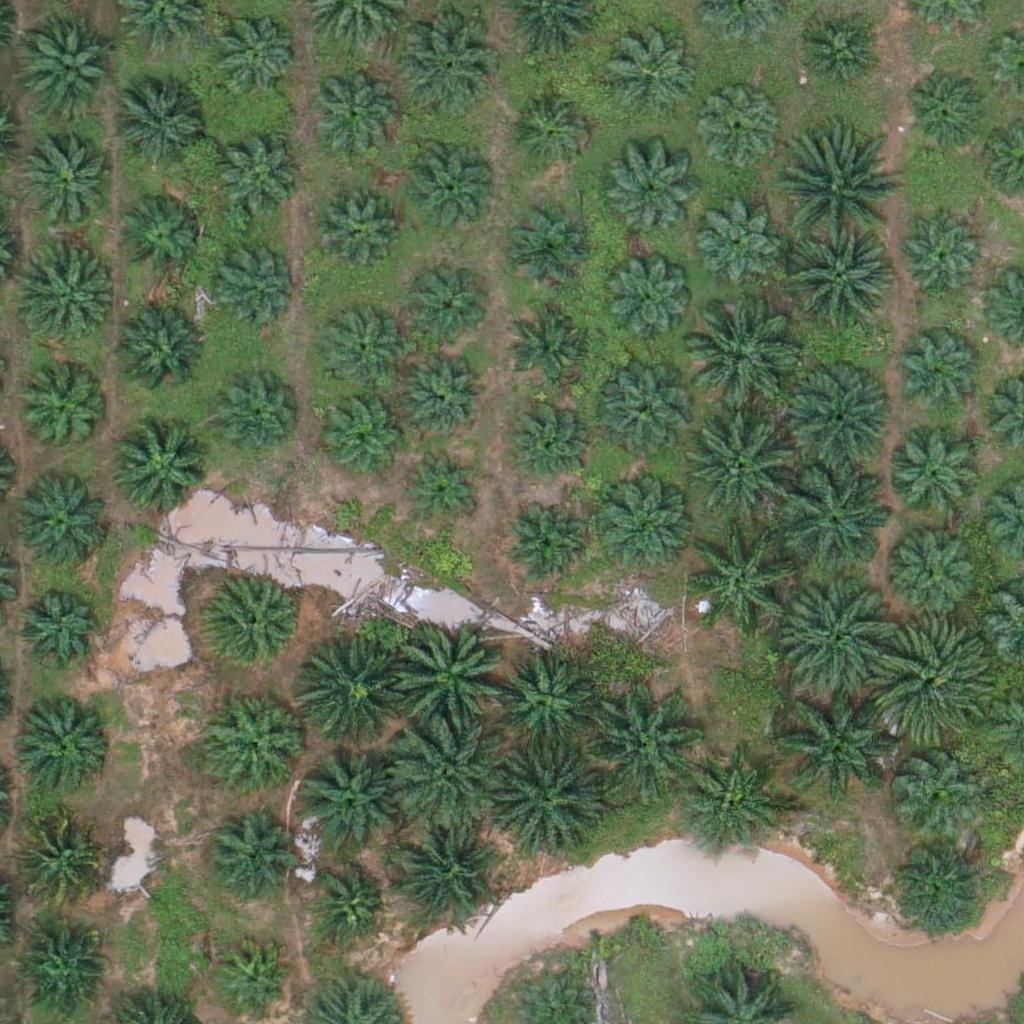Kelapa_Sawit: (487, 743, 600, 857), (776, 358, 889, 472), (875, 622, 988, 735), (783, 135, 896, 248), (780, 456, 893, 569), (294, 639, 407, 752), (787, 583, 899, 697), (776, 685, 888, 798), (587, 685, 699, 798), (395, 718, 507, 831), (781, 228, 893, 341), (688, 522, 800, 635), (688, 413, 800, 526), (684, 301, 796, 414), (394, 622, 506, 735), (295, 748, 395, 849), (15, 690, 115, 791), (593, 368, 693, 469), (394, 14, 494, 115), (494, 649, 594, 750), (113, 72, 213, 173), (109, 304, 209, 405), (110, 420, 210, 521), (19, 248, 119, 349), (886, 837, 986, 937), (683, 758, 783, 858), (393, 823, 493, 923), (206, 691, 306, 791), (886, 521, 986, 621), (890, 425, 990, 525), (592, 474, 692, 574), (204, 576, 304, 676), (19, 15, 119, 115), (12, 476, 112, 576), (890, 744, 978, 832), (203, 808, 291, 896), (14, 814, 102, 902), (789, 11, 877, 99), (896, 328, 984, 416), (605, 154, 693, 242), (605, 255, 693, 343), (208, 7, 296, 95), (212, 135, 300, 223), (205, 237, 293, 325), (307, 185, 395, 273), (405, 140, 493, 228), (504, 503, 592, 591), (506, 86, 594, 174), (695, 87, 783, 175), (21, 370, 109, 458), (13, 583, 101, 671), (17, 922, 104, 1010), (902, 66, 989, 154), (895, 214, 982, 302), (212, 372, 299, 460), (322, 389, 409, 477), (318, 304, 405, 392), (309, 68, 396, 156), (403, 265, 490, 353), (404, 349, 491, 437), (502, 393, 589, 481), (510, 296, 597, 384), (502, 199, 589, 287), (694, 200, 781, 288), (608, 31, 695, 119), (117, 190, 204, 278), (26, 134, 113, 222), (405, 446, 480, 522), (215, 939, 290, 1015), (310, 865, 385, 940)
